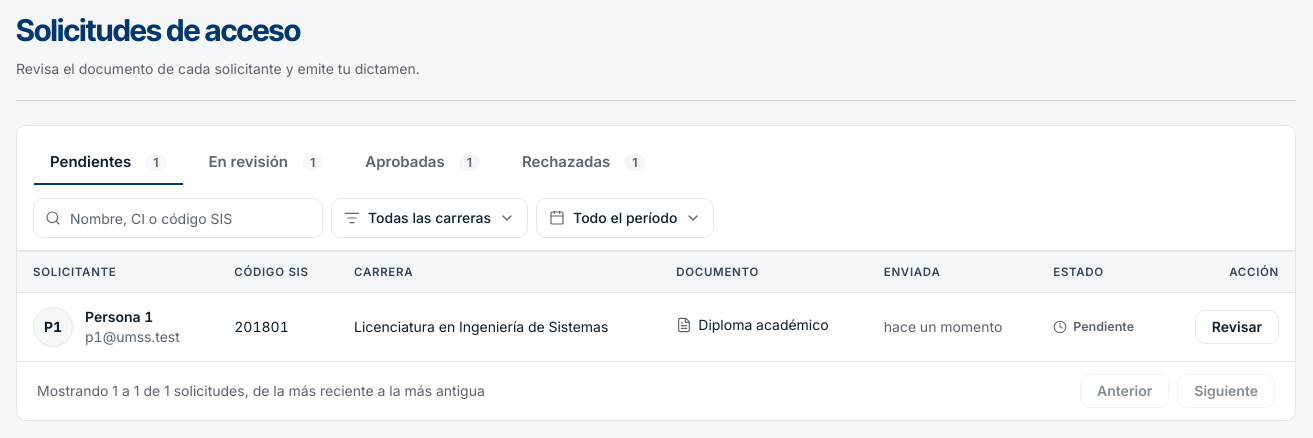
Test case: RequestInboxView: filtros › limpiar los filtros también vacía el buscador
This screenshot has width=1313, height=438.
Check: the text "Persona 1" is shown, box [85,308,153,325]
Type "zzz" into the search field named "Buscar por nombre, C.I. o código SIS".
click(178, 218); type("zzz")  # box [33,198,323,238]
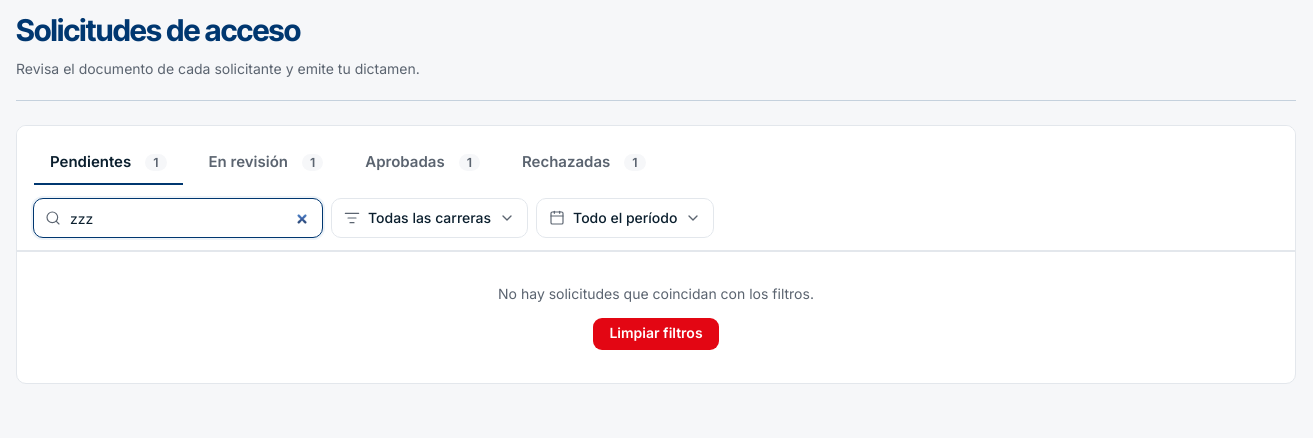
Click the button "Limpiar filtros".
click(656, 334)  # box [592,316,720,350]
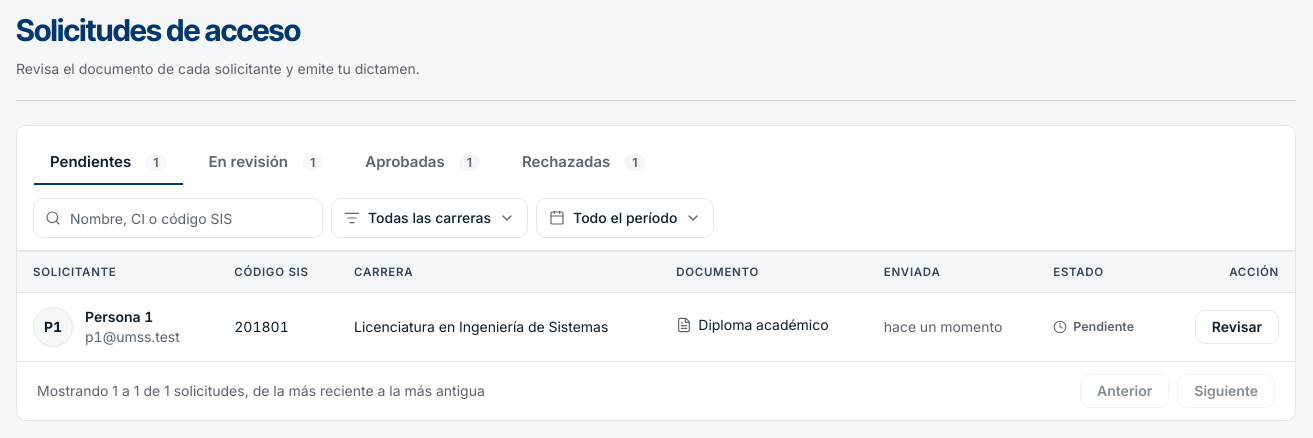
Check: the search field named "Buscar por nombre, C.I. o código SIS" is empty, box [33,198,323,238]
Check: the text "Persona 1" is shown, box [85,308,153,325]
